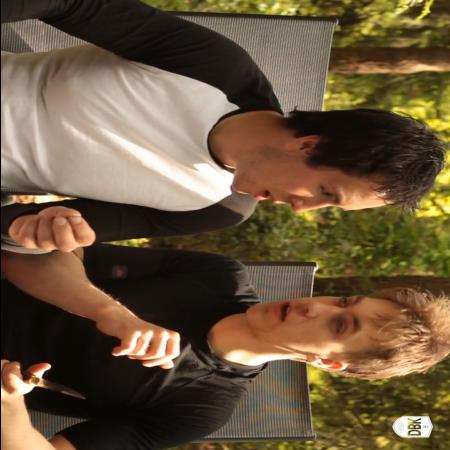long weapon: (1, 356, 97, 404)
